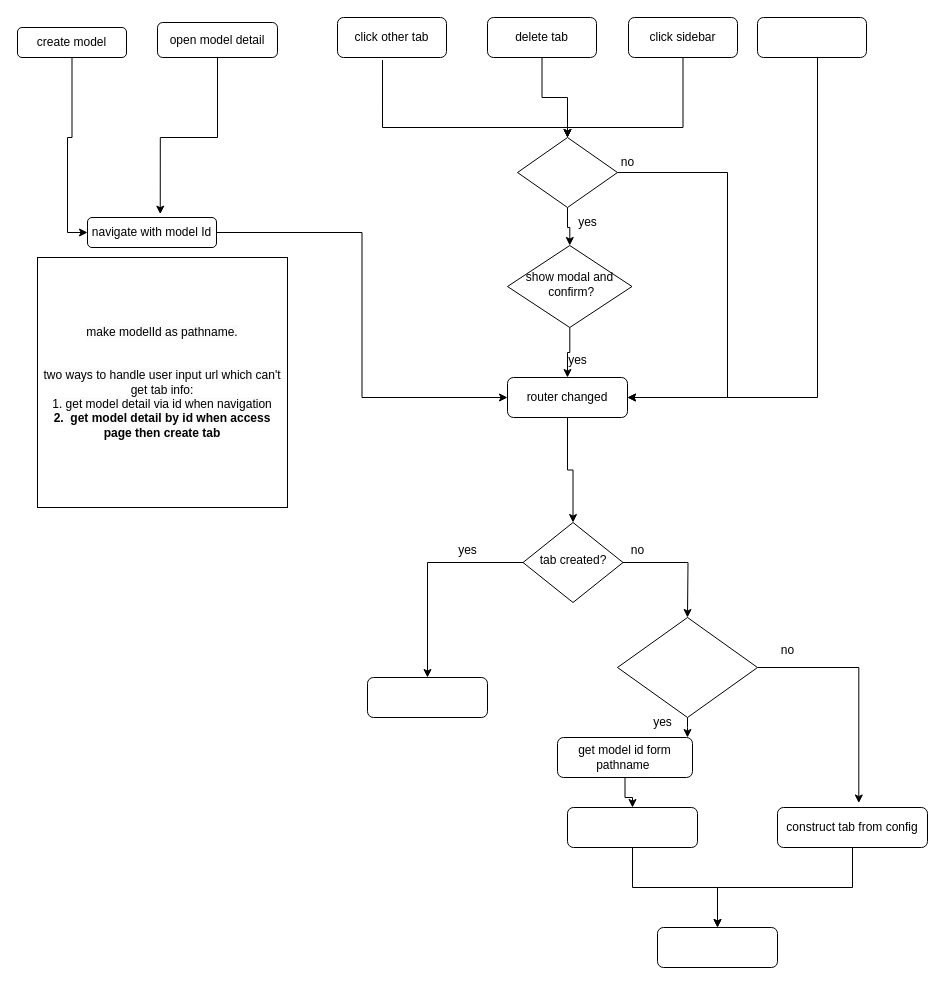
The diagram is 945 pixels wide and 985 high, and some of its shapes have lost their labels. The shapes that lost their labels are listed below. From the top down, each one's centre as x and y in pixels, then its label:
(x=811, y=37): input url
(x=567, y=172): is editing
(x=687, y=667): navigation params existed?
(x=427, y=697): switch tab
(x=632, y=827): construct tab from api
(x=717, y=947): create tab
